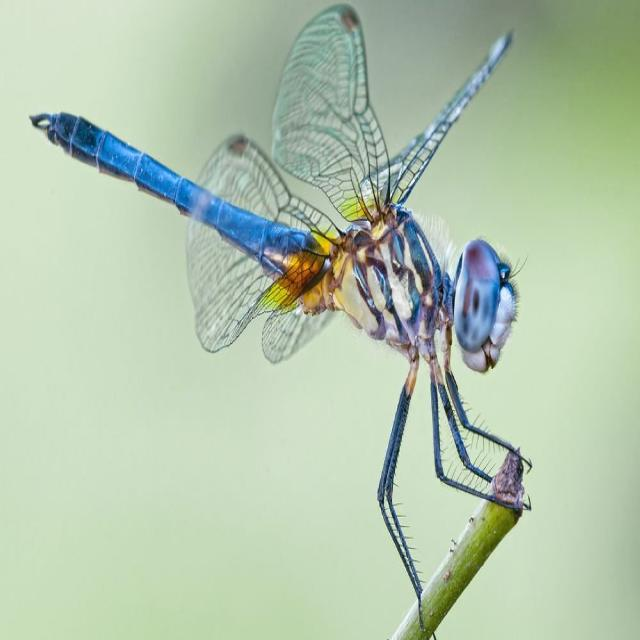dragonfly: (31, 5, 530, 600)
